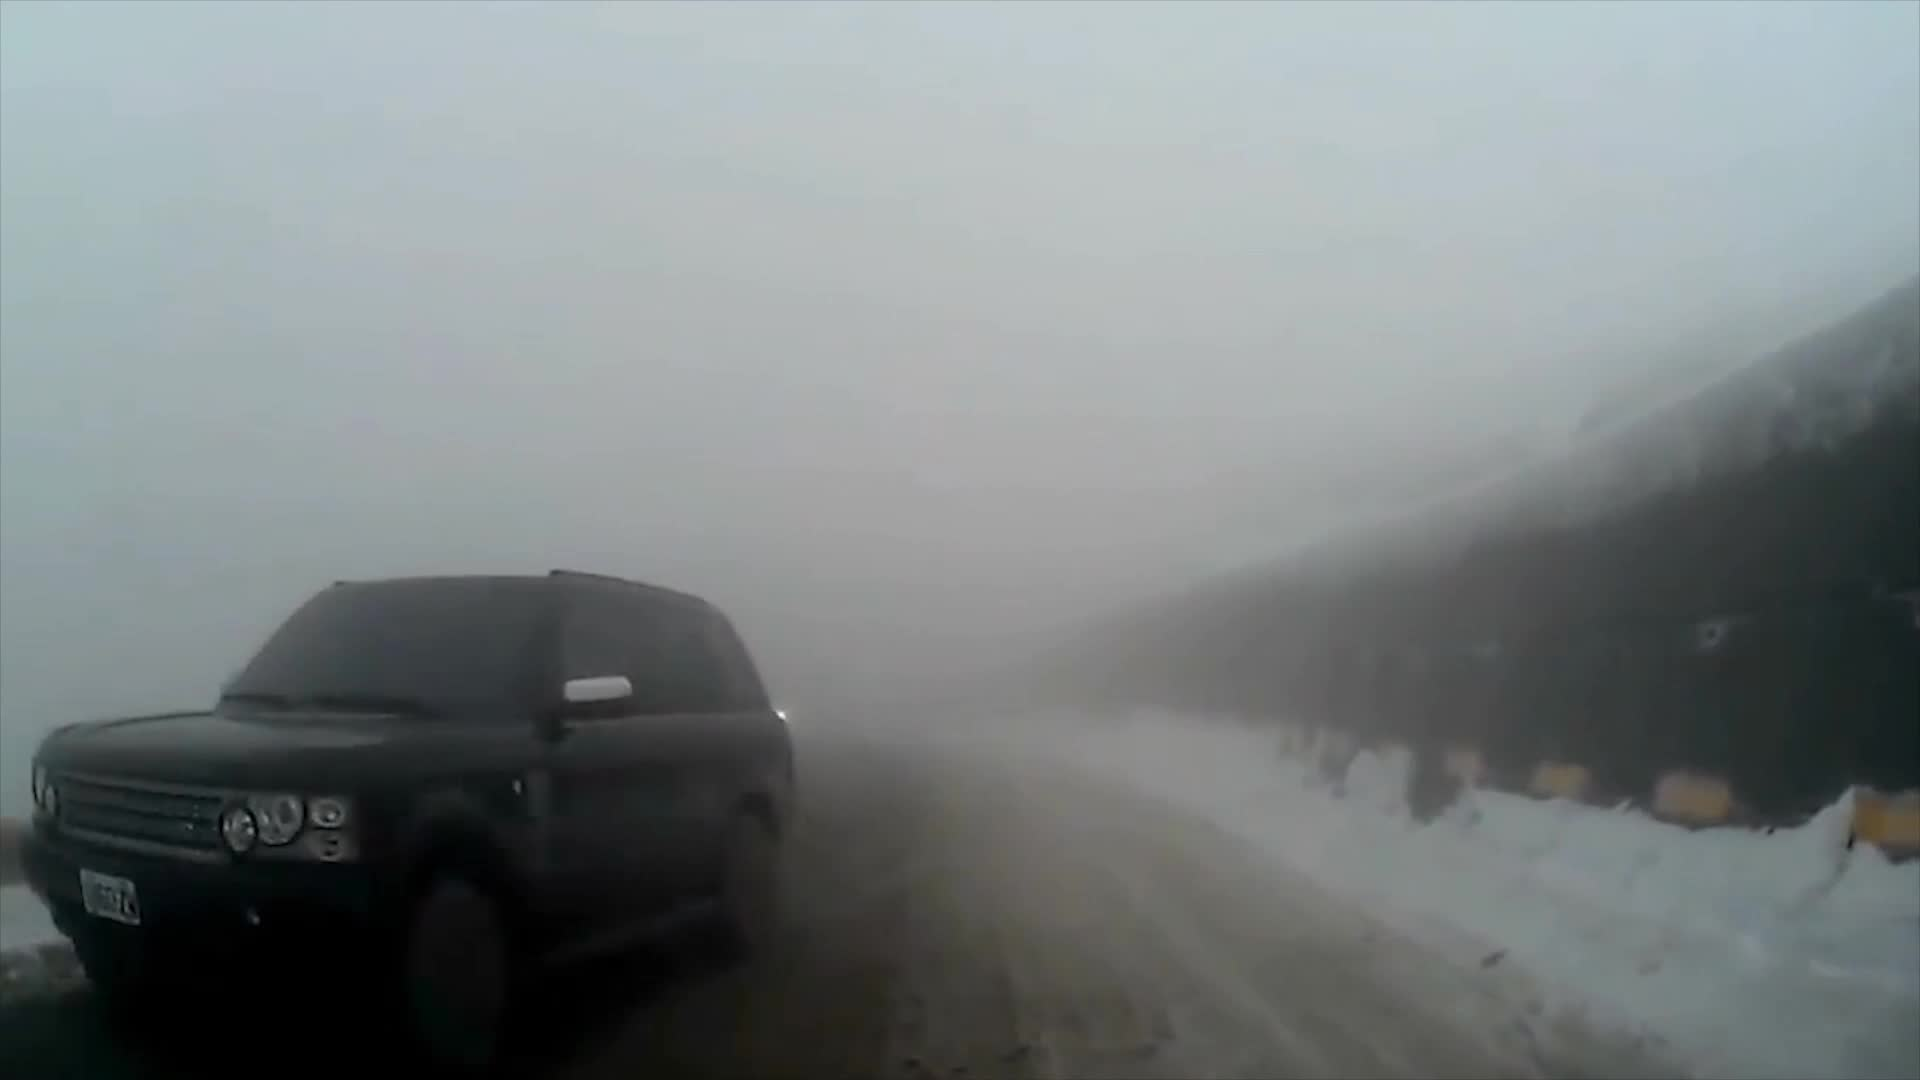vehicle: (15, 571, 815, 1077)
